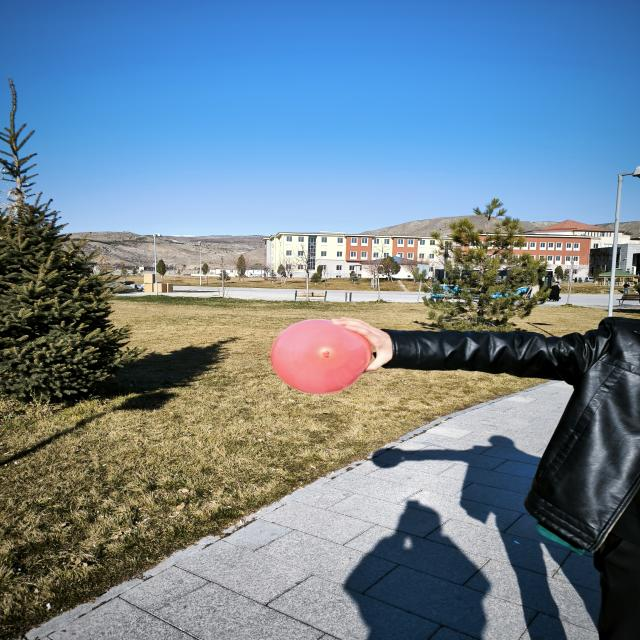balloon: (270, 320, 371, 394)
